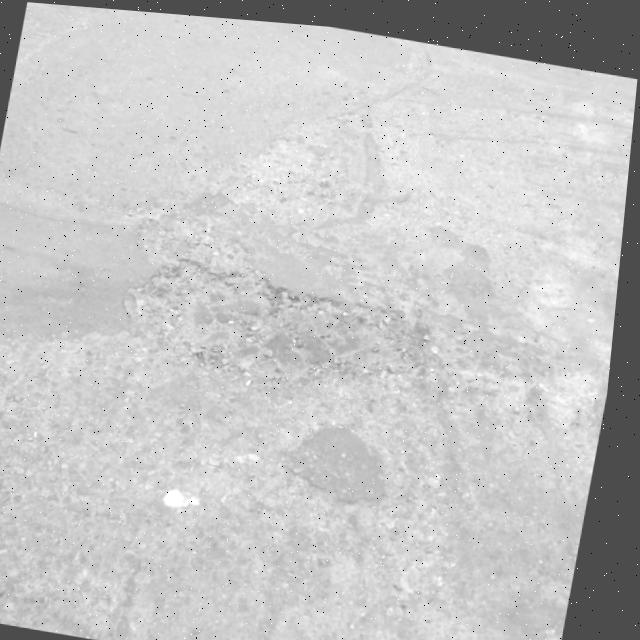Pothole: (112, 244, 446, 408)
